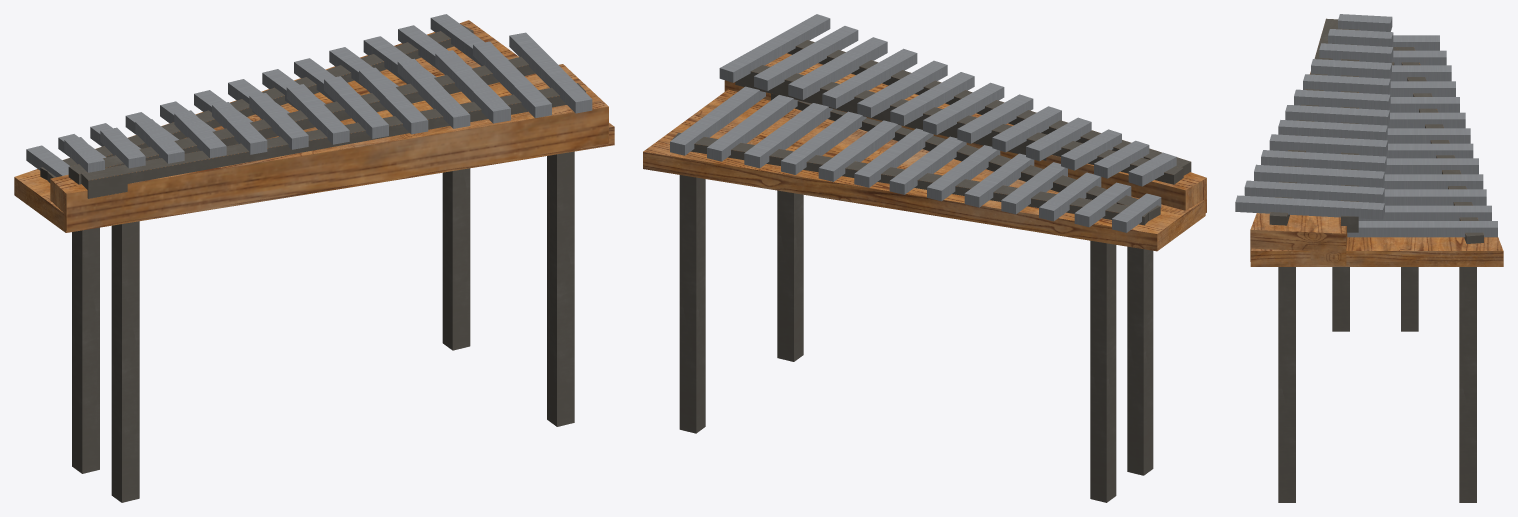
File: Glockenspiel.fbx
3 renders of one model, left to right at view 1: azimuth 30°, elevation 25°; view 2: azimuth 150°, elevation 25°; view 3: azimuth 270°, elevation 25°, orthographic. The views are drawn at different scales.
Parts seen in each view (by area): view 1: pCube4477; view 2: pCube4477; view 3: pCube4477.
Part boxes in pixels (left/top/right/bottom): pCube4477: left=14, top=14, right=614, bottom=502; pCube4477: left=643, top=14, right=1206, bottom=502; pCube4477: left=1235, top=14, right=1503, bottom=502.
Bounding box in the file's own units: 1.62 × 1.05 × 0.8578.
1 material, 1 textured.
